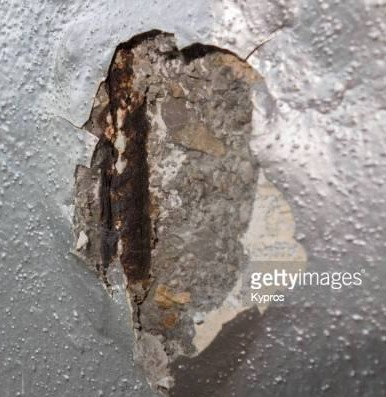Exposed reinforcement: (96, 44, 151, 288)
Spalling: (72, 28, 309, 368)
